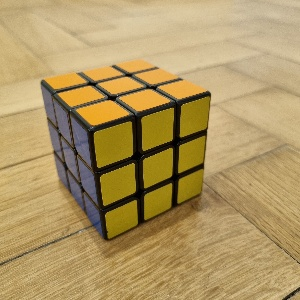cube: (40, 58, 212, 244)
